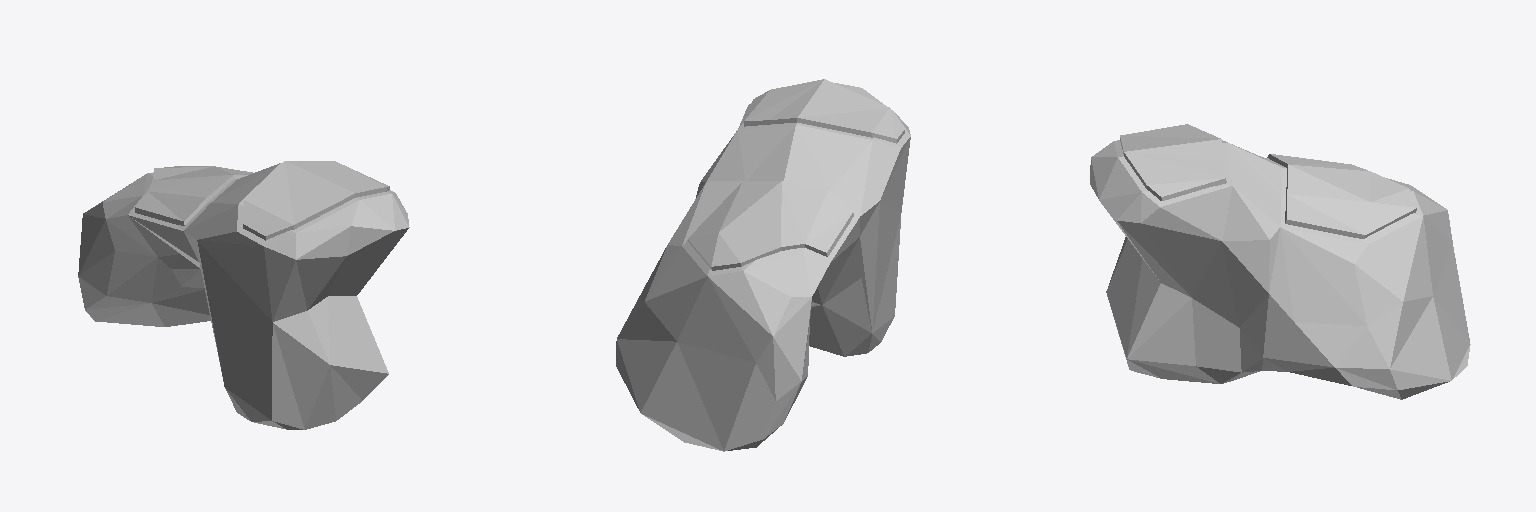
Rendered from winter-rock3.obj.
3 views of the same model, side by side, from view 1: azimuth 30°, elevation 25°; view 2: azimuth 150°, elevation 25°; view 3: azimuth 270°, elevation 25° (orthographic).
Visible parts, largest first — view 1: Cube.005; view 2: Cube.005; view 3: Cube.005.
Part boxes in pixels (bbox=[...]): Cube.005: bbox=[78, 161, 409, 429]; Cube.005: bbox=[616, 79, 910, 451]; Cube.005: bbox=[1090, 124, 1470, 399].
Size of the model in its own units: 2.33 by 2.46 by 3.64.